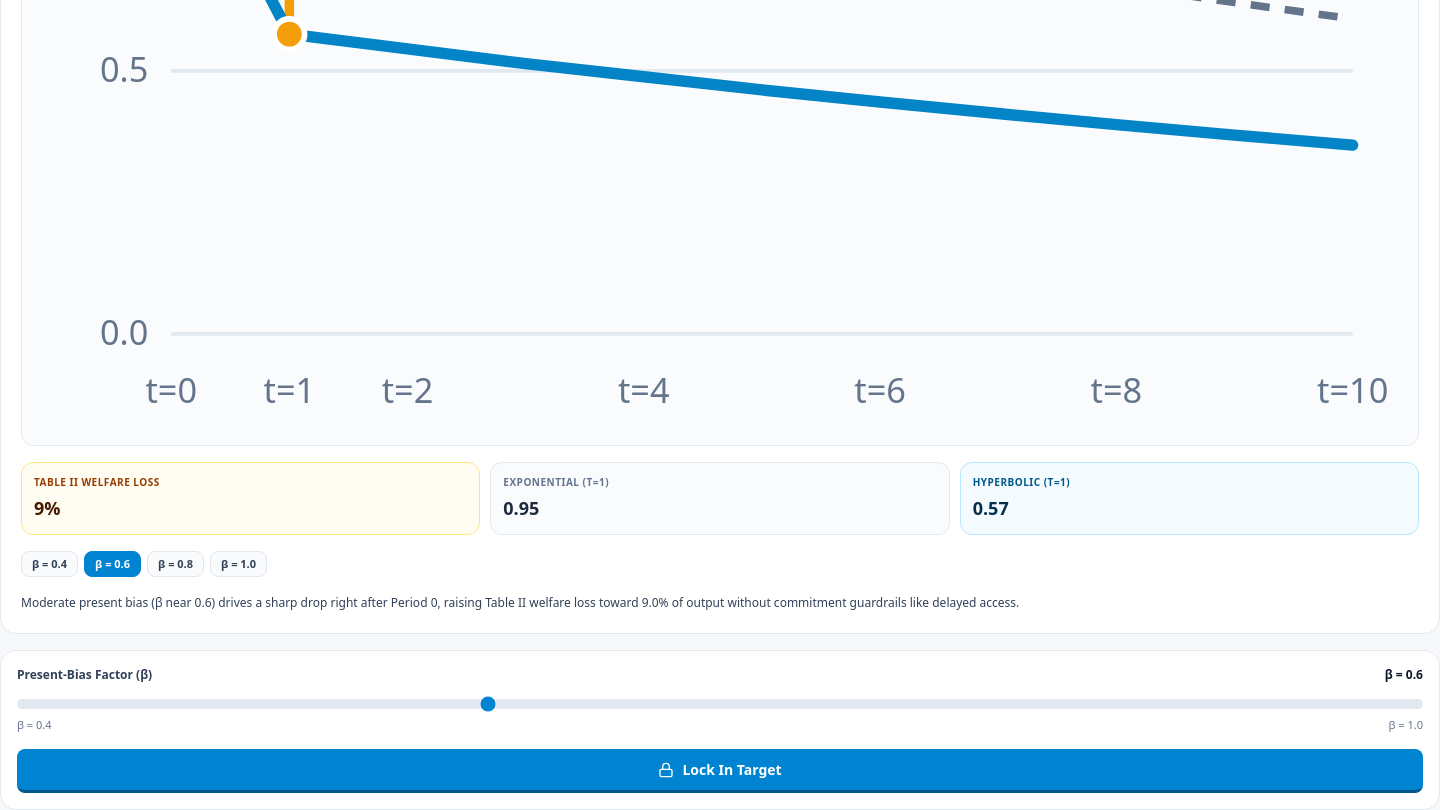
Phase 5C: All Four Mechanics & Interactive Scoring Rules › never scores InteractiveSliderWidget movement; scores exactly once on Lock In Target across all 3 presets
The image size is (1440, 810).
Earlier steps of the test are not shown.
Later steps or results of the test are not shown.
(page scrolled)
Set the slider to "0.4": (25, 704) 17,698 -> 1423,708
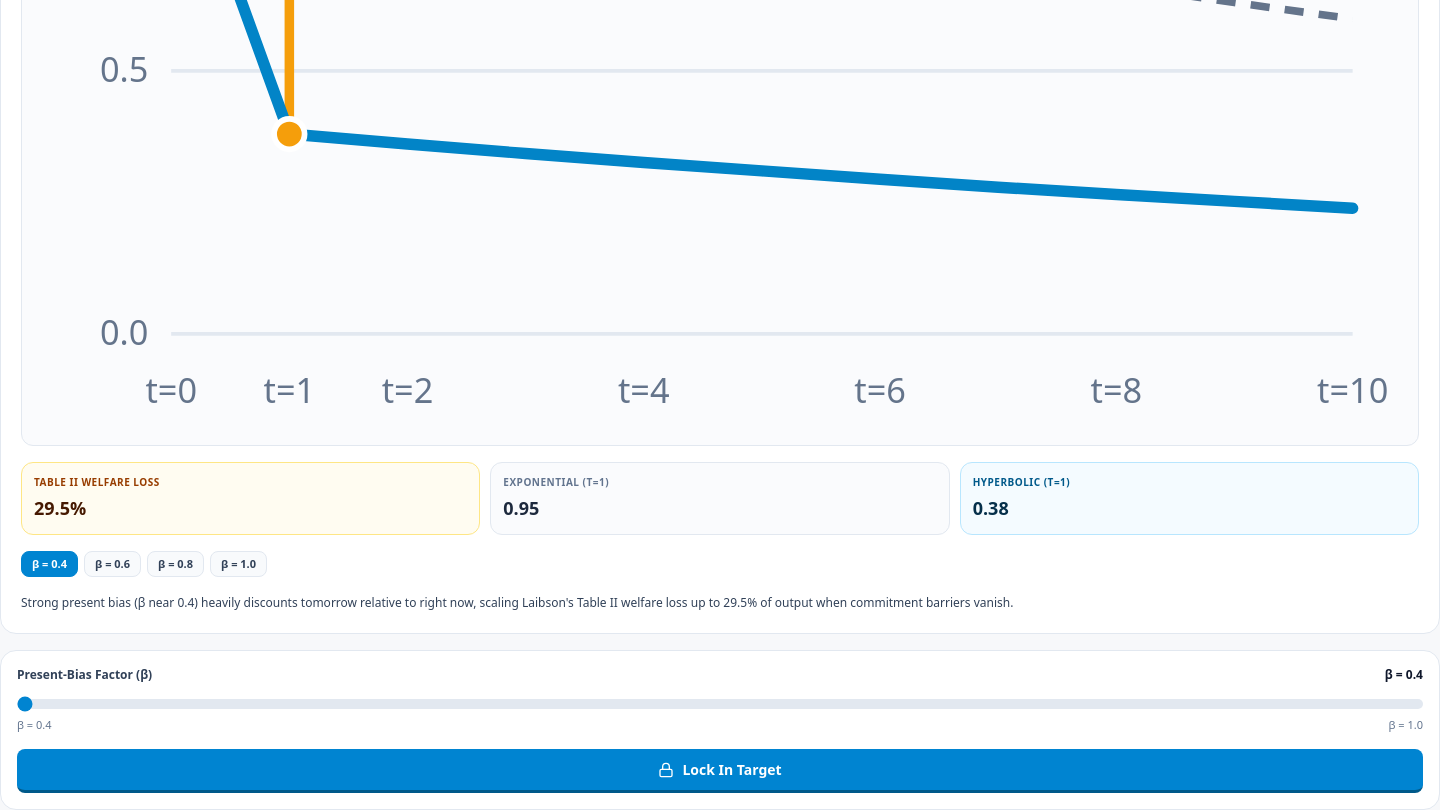
Check: the text "29.5%" is shown, box 34,496 -> 86,520
Set the slider to "1": (1415, 704) 17,698 -> 1423,708
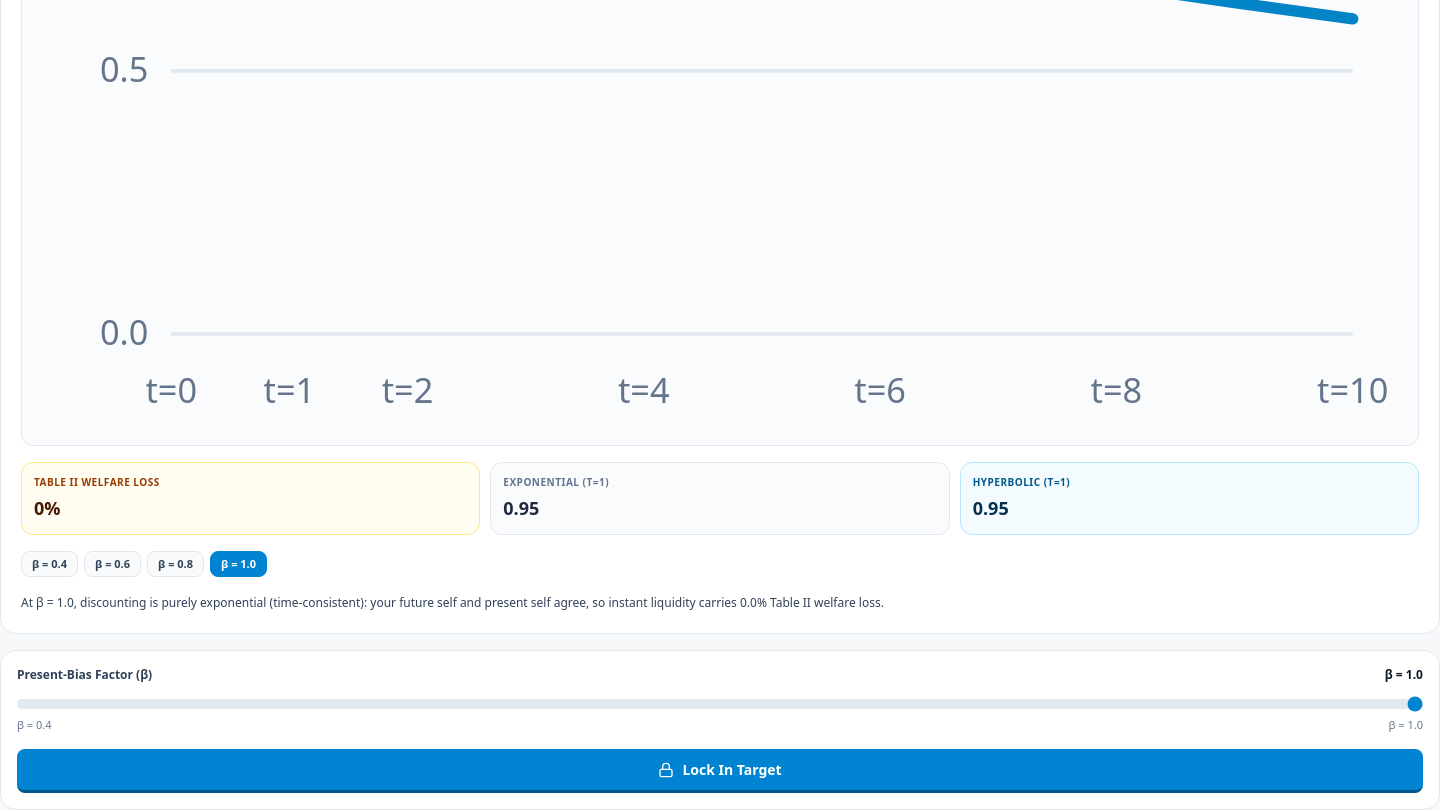
Check: the text "0%" is shown, box 34,496 -> 60,520
